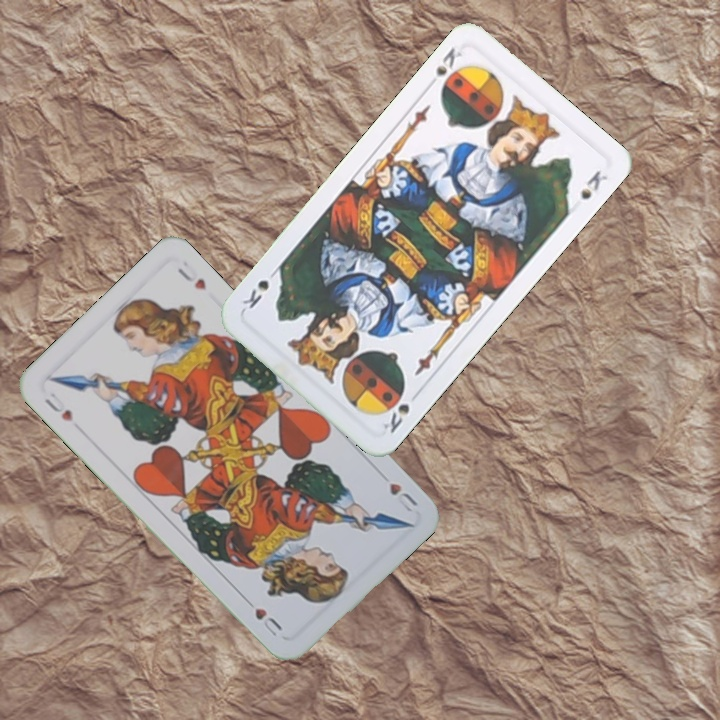HU: (40, 388, 76, 425), (385, 478, 420, 515)
SK: (424, 43, 467, 97), (379, 399, 412, 436)
